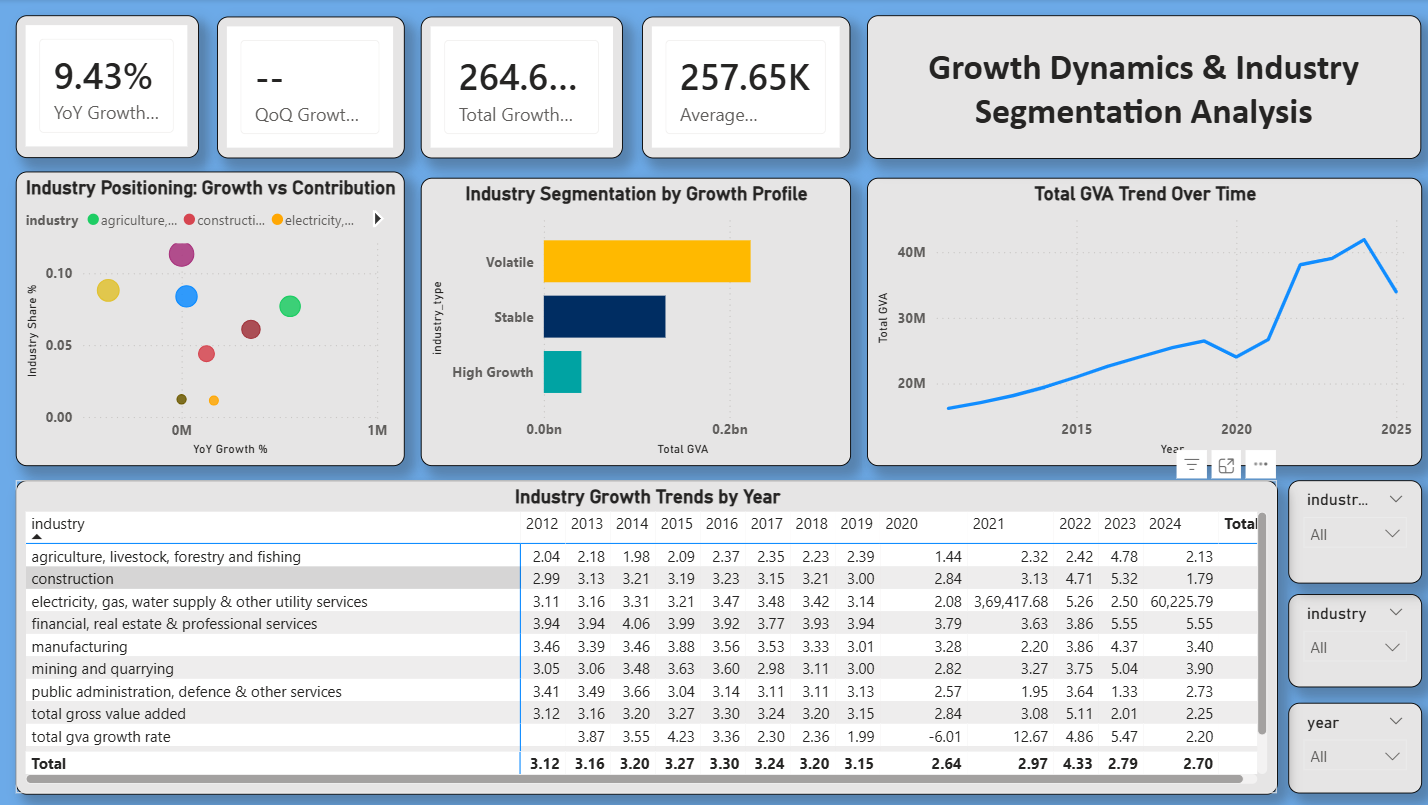

The dashboard page shown, as its layout file describes it:
{"tool":"powerbi","page":{"name":"Growth","canvas":[1280,720],"ordinal":2},"visuals":[{"type":"cardVisual","fields":{"Data":["gva_feature_engineered.YoY Growth (True)"]},"box":[21.1,14.9,163,126.9],"z":0},{"type":"cardVisual","fields":{"Data":["gva_feature_engineered.QoQ Growth (True)"]},"box":[200,16,166.9,126.4],"z":1000},{"type":"cardVisual","fields":{"Data":["Sum(gva_feature_engineered.growth_contribution)"]},"box":[381.6,16,180.4,126.4],"z":2000},{"type":"cardVisual","fields":{"Data":["Avg(gva_feature_engineered.volatility)"]},"box":[579.1,16,185.3,126.4],"z":3000},{"type":"scatterChart","title":"Industry Positioning: Growth vs Contribution","fields":{"Y":["gva_feature_engineered.Industry Share %"],"Size":["gva_feature_engineered.Total GVA"],"Series":["gva_feature_engineered.industry"],"X":["gva_feature_engineered.YoY Growth %"]},"box":[20.9,153.4,346,262.6],"z":4000},{"type":"clusteredBarChart","title":"Industry Segmentation by Growth Profile","fields":{"Y":["gva_feature_engineered.Total GVA"],"Category":["gva_feature_engineered.industry_type"]},"box":[381.6,159.5,382.8,256.4],"z":5000},{"type":"lineChart","title":"Total GVA Trend Over Time","fields":{"Category":["gva_feature_engineered.date.Variation.Date Hierarchy.Year","gva_feature_engineered.date.Variation.Date Hierarchy.Quarter","gva_feature_engineered.date.Variation.Date Hierarchy.Month","gva_feature_engineered.date.Variation.Date Hierarchy.Day"],"Y":["gva_feature_engineered.Total GVA"]},"box":[779.1,159.5,494.5,256.4],"z":6000},{"type":"slicer","fields":{"Values":["gva_feature_engineered.industry"]},"box":[1154.6,530.1,119,83.4],"z":7000},{"type":"slicer","fields":{"Values":["gva_feature_engineered.year"]},"box":[1154.6,627,119,81],"z":8000},{"type":"slicer","fields":{"Values":["gva_feature_engineered.industry_type"]},"box":[1154.6,428.2,119,92],"z":9000},{"type":"pivotTable","title":"Industry Growth Trends by Year","fields":{"Rows":["gva_feature_engineered.industry"],"Columns":["gva_feature_engineered.date.Variation.Date Hierarchy.Year"],"Values":["gva_feature_engineered.QoQ Growth %"]},"box":[20.9,428.2,1123.9,279.8],"z":10000},{"type":"textbox","box":[779.1,14.7,493.3,127.6],"z":11000}]}

Visuals, with their boxes in screenshot pixels (x1, y1, x2, y2), scaled from the page's 1280x720 canvas onto the 1428x805 screenshot:
cardVisual - gva_feature_engineered.YoY Growth (True): (left=24, top=17, right=205, bottom=159)
cardVisual - gva_feature_engineered.QoQ Growth (True): (left=223, top=18, right=409, bottom=159)
cardVisual - Sum(gva_feature_engineered.growth_contribution): (left=426, top=18, right=627, bottom=159)
cardVisual - Avg(gva_feature_engineered.volatility): (left=646, top=18, right=853, bottom=159)
"Industry Positioning: Growth vs Contribution" scatterChart: (left=23, top=172, right=409, bottom=465)
"Industry Segmentation by Growth Profile" clusteredBarChart: (left=426, top=178, right=853, bottom=465)
"Total GVA Trend Over Time" lineChart: (left=869, top=178, right=1421, bottom=465)
slicer - gva_feature_engineered.industry: (left=1288, top=593, right=1421, bottom=686)
slicer - gva_feature_engineered.year: (left=1288, top=701, right=1421, bottom=792)
slicer - gva_feature_engineered.industry_type: (left=1288, top=479, right=1421, bottom=582)
"Industry Growth Trends by Year" pivotTable: (left=23, top=479, right=1277, bottom=792)
textbox: (left=869, top=16, right=1420, bottom=159)
